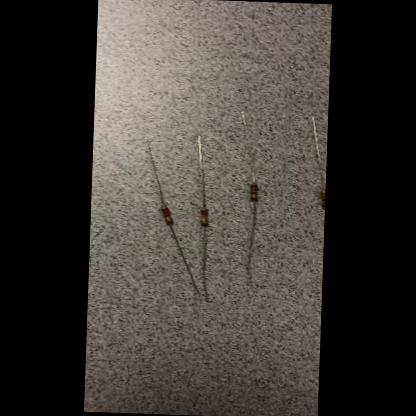resistor: (160, 206, 172, 224), (199, 208, 208, 226), (250, 182, 257, 200), (321, 190, 326, 209)
